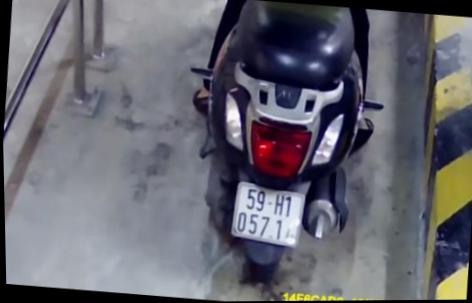LP: (228, 179, 306, 249)
